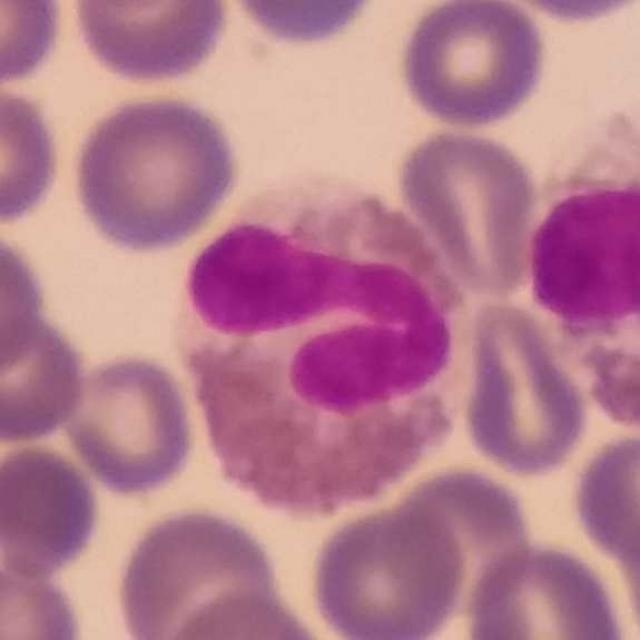Eosinophil: (187, 176, 462, 520), (521, 112, 640, 440)
RBC: (68, 89, 244, 256), (374, 463, 536, 634), (391, 122, 545, 298), (455, 293, 593, 482), (306, 494, 471, 640), (110, 503, 283, 640), (54, 347, 200, 500), (394, 0, 552, 132), (459, 537, 632, 640), (0, 440, 105, 582), (65, 0, 234, 88), (0, 310, 91, 446), (566, 426, 640, 573), (154, 585, 340, 640), (0, 79, 67, 230), (218, 0, 385, 50), (0, 224, 50, 378), (0, 556, 89, 640), (0, 0, 70, 90), (487, 0, 640, 26)
